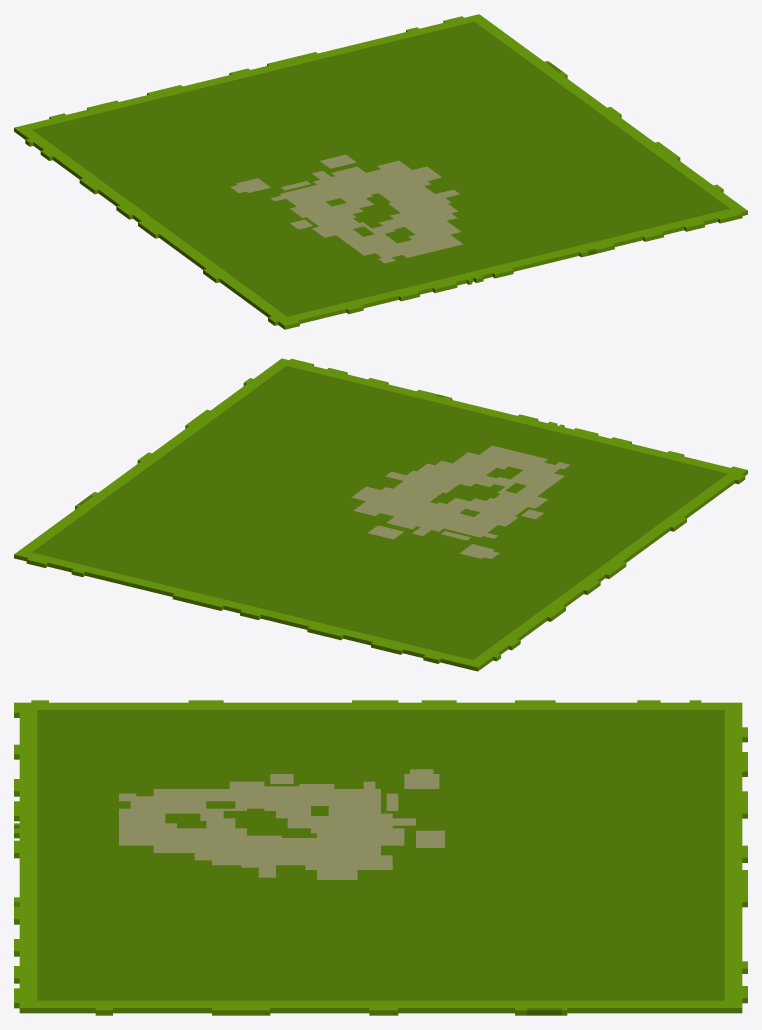
The model's file is field-flat.obj.
3 views of the same model, one above another, from view 1: azimuth 30°, elevation 25°; view 2: azimuth 150°, elevation 25°; view 3: azimuth 270°, elevation 25° (orthographic). The views are drawn at different scales.
Visible parts, largest first — view 1: field-flat; view 2: field-flat; view 3: field-flat.
Part boxes in pixels (x1=…): field-flat: x1=14, y1=14, x2=747, y2=329; field-flat: x1=14, y1=358, x2=747, y2=671; field-flat: x1=14, y1=700, x2=747, y2=1015.
Bounding box in the file's own units: 126 × 1 × 126.
